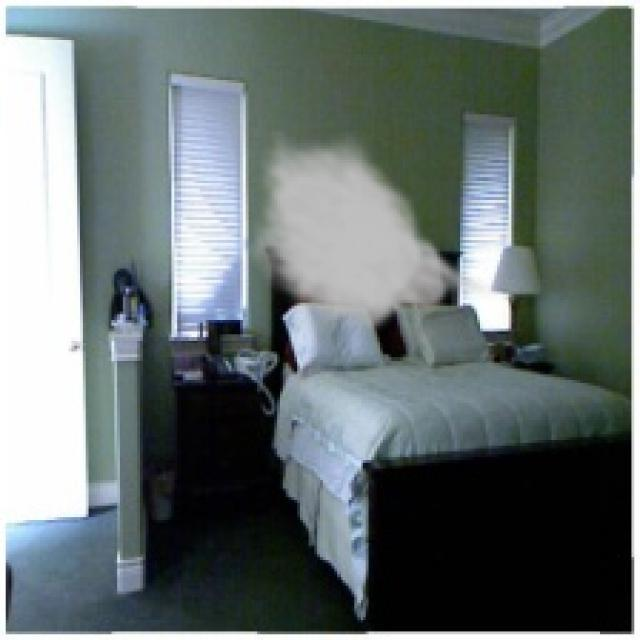Smoke: (249, 128, 497, 338)
